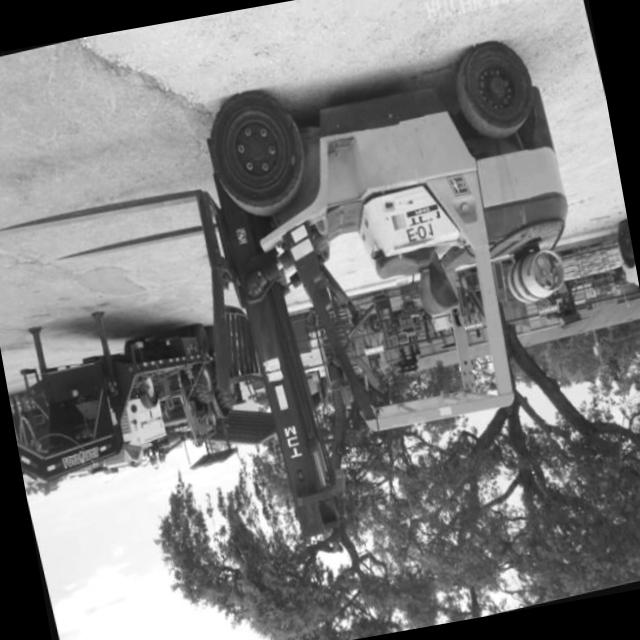forklift: (140, 12, 632, 483)
